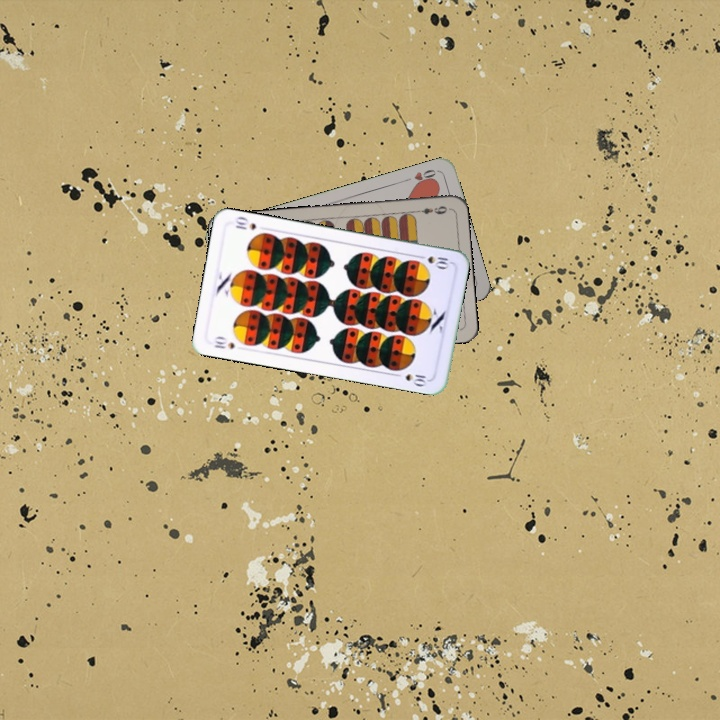E9: (411, 202, 450, 217)
HO: (400, 165, 440, 188)
S10: (413, 251, 451, 271), (210, 332, 237, 352)
